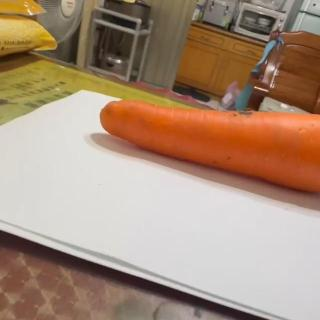carrot: (99, 99, 320, 194)
